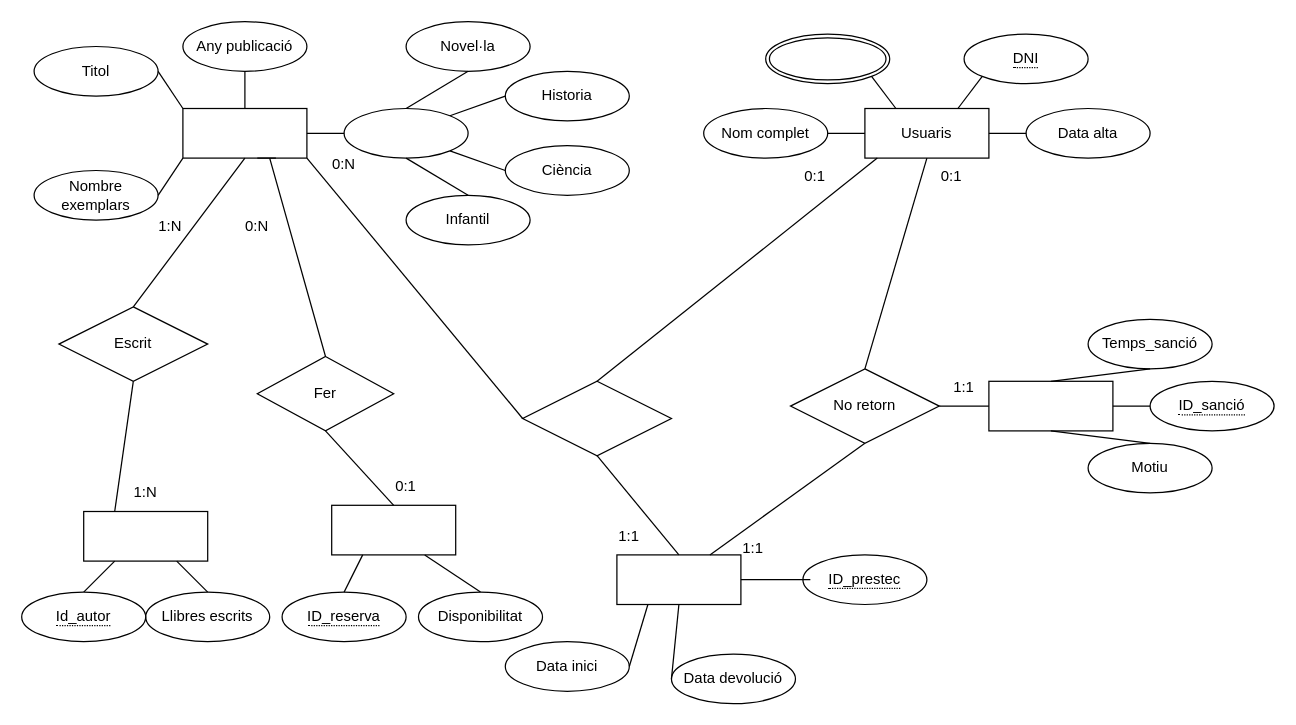
Some shapes in this 1296 by 725 pixel diagram are drawn without their labels. Here are the shapes that lost their labels. From the top down, the box of each, then its label:
(764, 33, 890, 84): Num telefon
(182, 107, 307, 158): Llibre
(343, 107, 468, 158): Classificació
(521, 380, 671, 456): demanar
(988, 380, 1113, 431): Sanció
(82, 510, 208, 561): Autors
(330, 504, 456, 555): Reservas
(616, 554, 741, 604): Prestec
